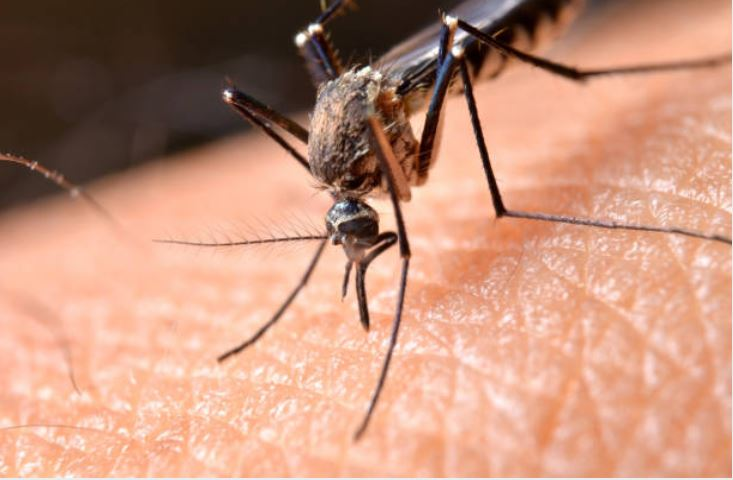dengue_mosquito: (152, 2, 733, 335)
